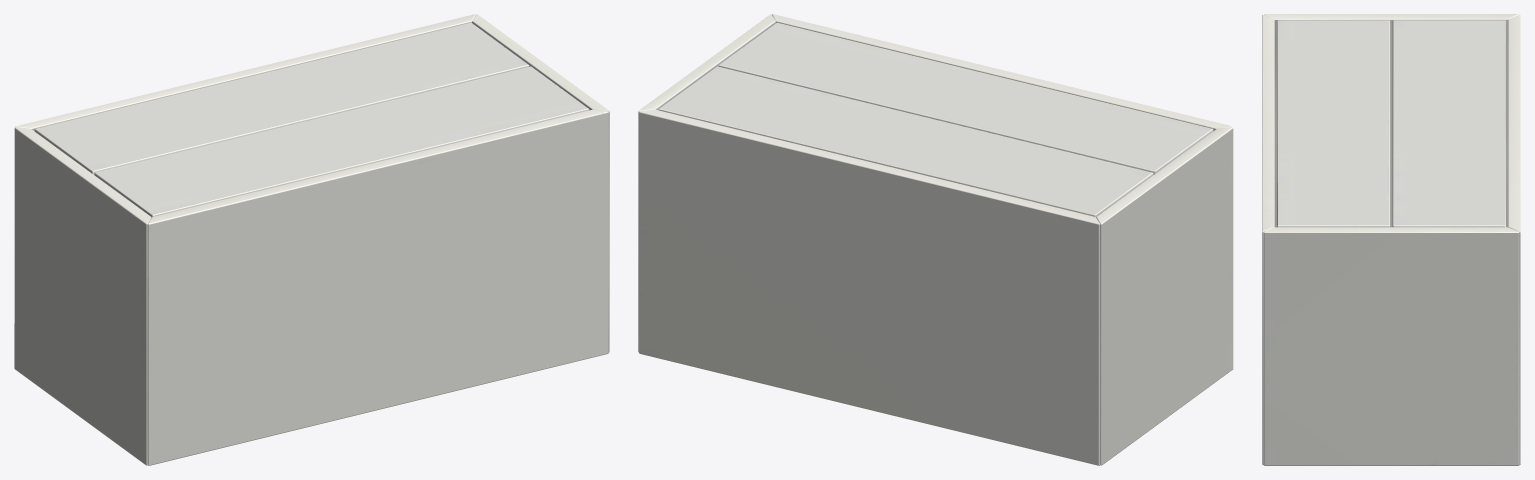
The model's file is 63 - EKET - 收納櫃附2抽屜, 白色, 70x35x35 公分 IKEA 線上購物.glb.
The picture shows the model from 3 angles, left to right: view 1: azimuth 30°, elevation 25°; view 2: azimuth 150°, elevation 25°; view 3: azimuth 270°, elevation 25°; orthographic projection. The views are drawn at different scales.
Visible parts, largest first — view 1: 00333947-EKET001; view 2: 00333947-EKET001; view 3: 00333947-EKET001.
Part boxes in pixels (x1,y1,x2,y2): 00333947-EKET001: [14, 14, 609, 465]; 00333947-EKET001: [638, 14, 1233, 465]; 00333947-EKET001: [1262, 14, 1520, 465].
Bounding box in the file's own units: 0.7 × 0.3631 × 0.35.
Materials: 1 (1 with a texture image).
